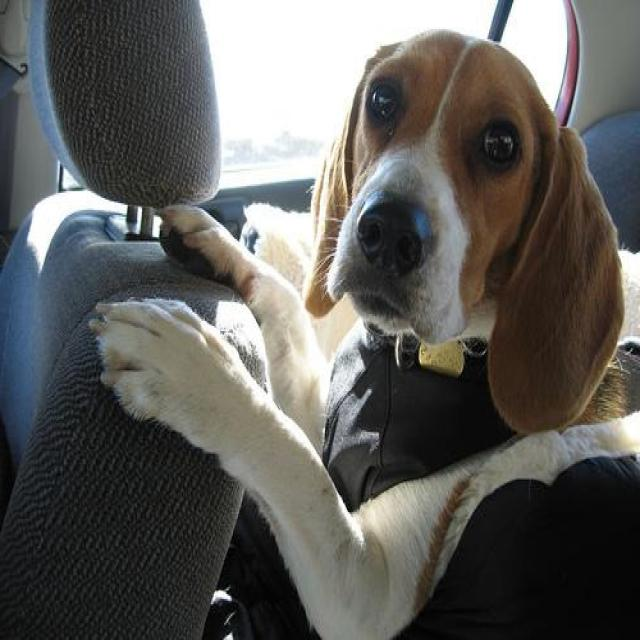beagle: (85, 29, 638, 638)
